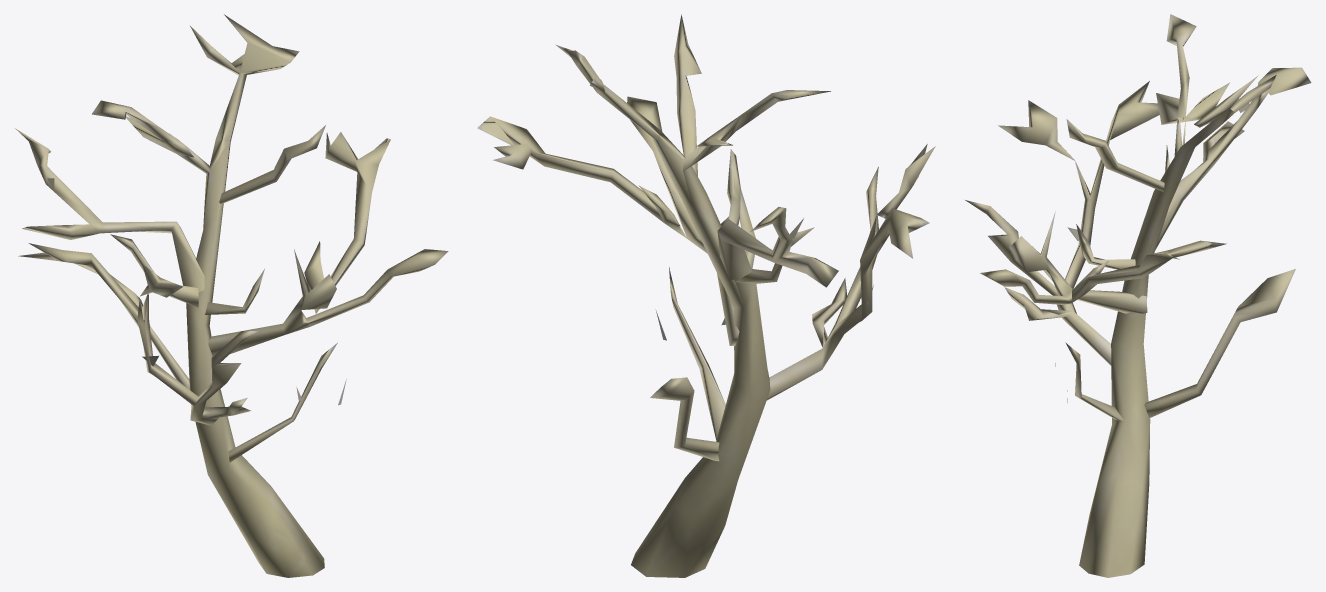
The model's file is Meshy_AI_model_20261128_texture.fbx.
3 views of the same model, side by side, from view 1: azimuth 30°, elevation 25°; view 2: azimuth 150°, elevation 25°; view 3: azimuth 270°, elevation 25° (orthographic). The views are drawn at different scales.
Visible parts, largest first — view 1: geometry_0; view 2: geometry_0; view 3: geometry_0.
Part boxes in pixels (<box>): geometry_0: <box>15,14,448,577</box>; geometry_0: <box>477,14,935,577</box>; geometry_0: <box>965,14,1311,577</box>.
Size of the model in its own units: 79.21 by 100 by 64.1.
Materials: 1 (1 with a texture image).
